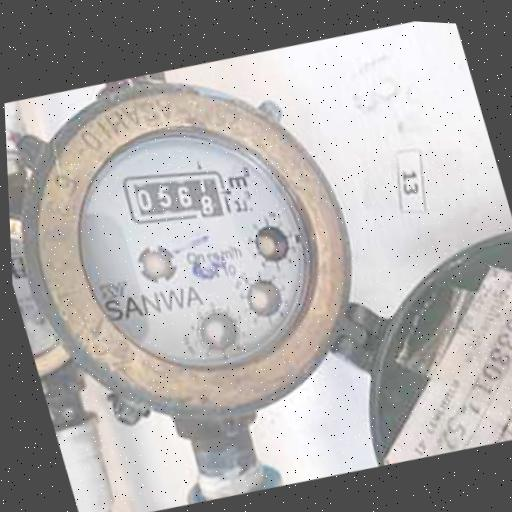0: (130, 178, 160, 218)
5: (150, 177, 181, 217)
6: (169, 175, 201, 215)
7: (191, 174, 225, 220)
border_water_meter_number: (116, 151, 238, 238)
